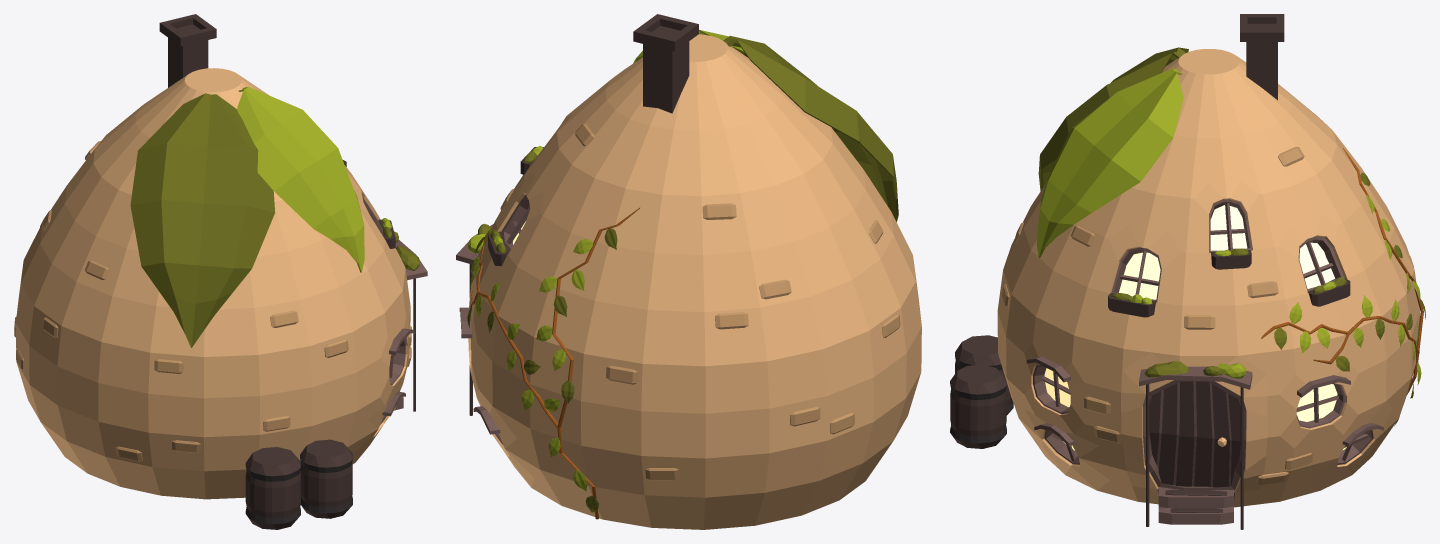
Rendered from House.glb.
The picture shows the model from 3 angles, left to right: view 1: azimuth 30°, elevation 25°; view 2: azimuth 150°, elevation 25°; view 3: azimuth 270°, elevation 25°; orthographic projection. The views are drawn at different scales.
Visible parts, largest first — view 1: house.001, leaf.044, leaf.043, Cylinder.004, Cylinder.005, Cube.009, Cube.010; view 2: house.001, leaf.044, Cube.009, Cube.010, Cylinder, Cylinder.002, Cube.028, Cube.024; view 3: house.001, leaf.043, door, Cylinder.005, leaf.044, Cube.002, Cube.009, Cylinder.004, Cube.010, house.004, house.003, Cube.013 (+8 smaller).
Boxes of the visible parts, x1=… form: house.001: x1=16, y1=68, x2=410, y2=499; leaf.044: x1=130, y1=93, x2=275, y2=347; leaf.043: x1=237, y1=86, x2=364, y2=272; Cylinder.004: x1=245, y1=447, x2=300, y2=529; Cylinder.005: x1=300, y1=439, x2=352, y2=518; Cube.009: x1=168, y1=38, x2=208, y2=87; Cube.010: x1=159, y1=14, x2=216, y2=46; house.001: x1=468, y1=34, x2=921, y2=529; leaf.044: x1=723, y1=35, x2=898, y2=221; Cube.009: x1=643, y1=41, x2=689, y2=113; Cube.010: x1=633, y1=14, x2=698, y2=51; Cylinder: x1=552, y1=207, x2=640, y2=519; Cylinder.002: x1=470, y1=290, x2=558, y2=428; Cube.028: x1=702, y1=203, x2=736, y2=219; Cube.024: x1=715, y1=312, x2=748, y2=329; house.001: x1=997, y1=49, x2=1419, y2=507; leaf.043: x1=1036, y1=68, x2=1183, y2=257; door: x1=1149, y1=381, x2=1240, y2=487; Cylinder.005: x1=950, y1=364, x2=1006, y2=448; leaf.044: x1=1038, y1=47, x2=1188, y2=191; Cube.002: x1=1158, y1=486, x2=1233, y2=524; Cube.009: x1=1246, y1=42, x2=1277, y2=100; Cylinder.004: x1=955, y1=335, x2=1013, y2=415; Cube.010: x1=1240, y1=14, x2=1284, y2=41; house.004: x1=1119, y1=252, x2=1160, y2=299; house.003: x1=1210, y1=205, x2=1247, y2=250; Cube.013: x1=1139, y1=366, x2=1252, y2=389.
Bounding box in the file's own units: 15.15 × 15.69 × 16.35.
